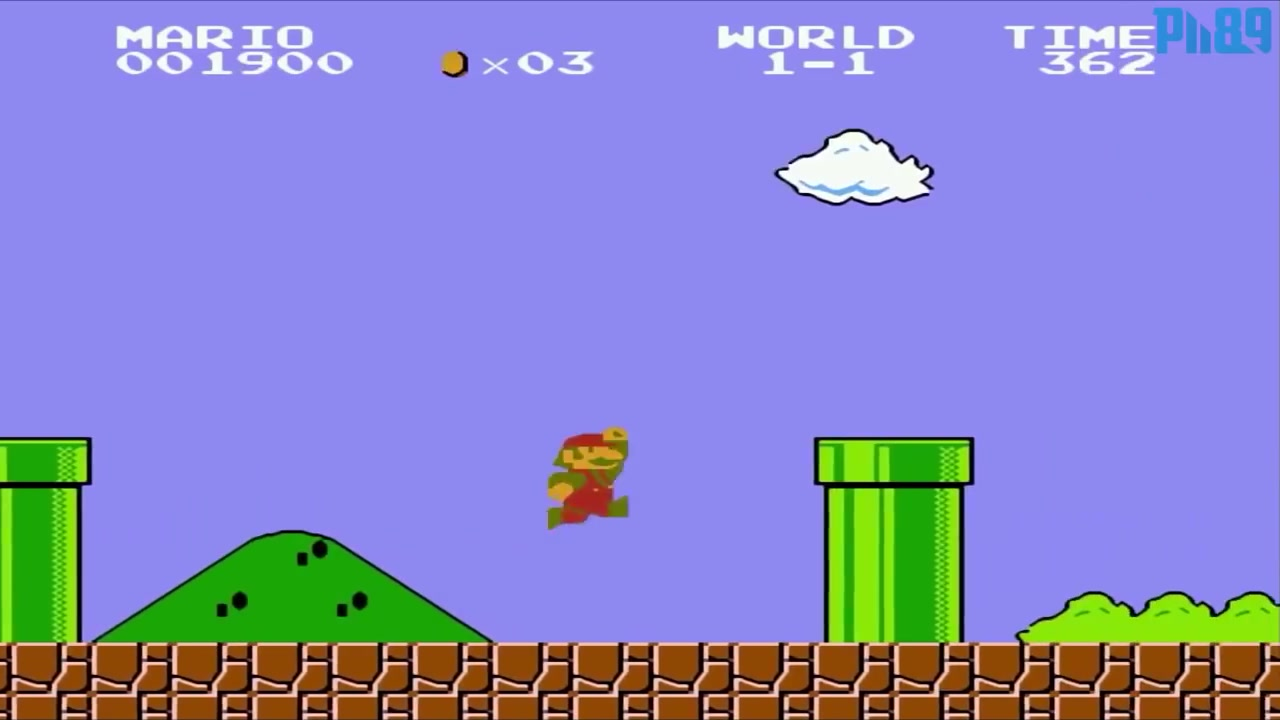mario: (532, 415, 634, 534)
